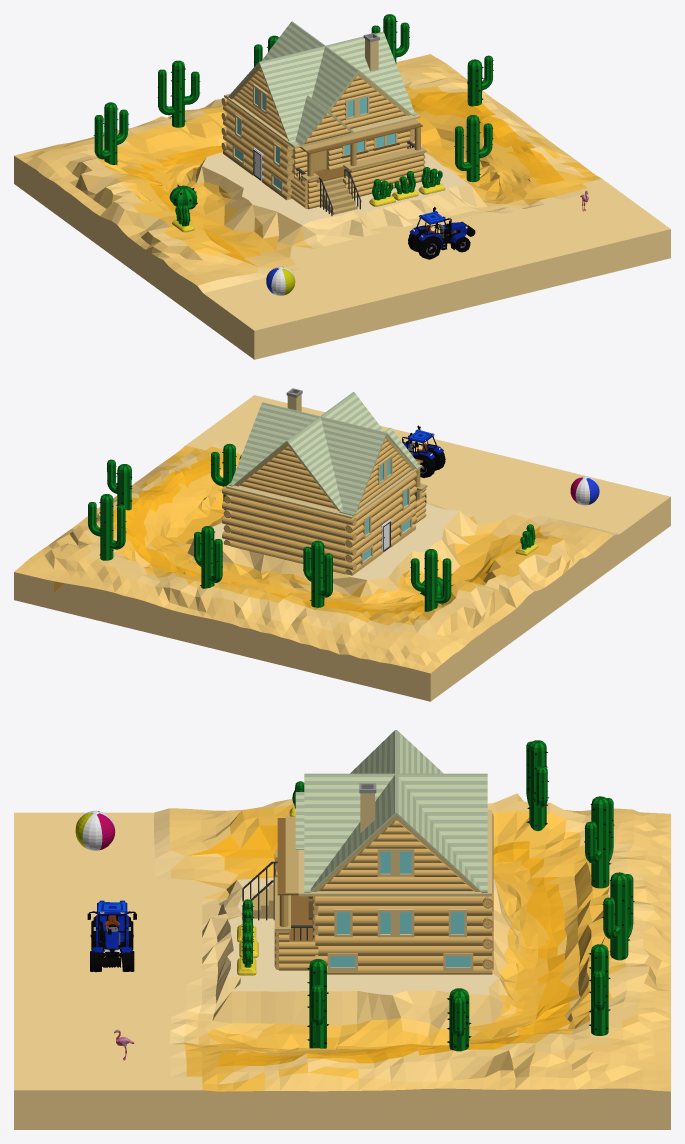
3 views of the same model, one above another, from view 1: azimuth 30°, elevation 25°; view 2: azimuth 150°, elevation 25°; view 3: azimuth 270°, elevation 25° (orthographic). The views are drawn at different scales.
Parts seen in each view (by area): view 1: Cube.001, Cube.1516, VEHICLES_TRACTOR, Cylinder.037, Cylinder.044, Cylinder.045, Cylinder.038, Cylinder.042, OBJRANDOM_BEACHBALL, Cylinder.039, Cylinder.041, Sphere.023 (+1 smaller); view 2: Cube.001, Cube.1516, Cylinder.042, Cylinder.045, Cylinder.044, Cylinder.043, VEHICLES_TRACTOR, Cylinder.038, Cylinder.037, OBJRANDOM_BEACHBALL; view 3: Cube.001, Cube.1516, VEHICLES_TRACTOR, Cylinder.043, Cylinder.044, Cylinder.045, Cylinder.042, Cylinder.037, Cylinder.038, OBJRANDOM_BEACHBALL, Cylinder.041.
Boxes of the visible parts, x1=… form: Cube.001: x1=14, y1=54, x2=670, y2=359; Cube.1516: x1=221, y1=21, x2=426, y2=215; VEHICLES_TRACTOR: x1=408, y1=207, x2=475, y2=259; Cylinder.037: x1=454, y1=115, x2=493, y2=182; Cylinder.044: x1=157, y1=60, x2=200, y2=127; Cylinder.045: x1=93, y1=102, x2=129, y2=164; Cylinder.038: x1=467, y1=55, x2=493, y2=106; Cylinder.042: x1=371, y1=14, x2=409, y2=63; OBJRANDOM_BEACHBALL: x1=266, y1=266, x2=295, y2=295; Cylinder.039: x1=369, y1=179, x2=395, y2=206; Cylinder.041: x1=418, y1=167, x2=445, y2=194; Sphere.023: x1=169, y1=184, x2=197, y2=209; Cube.001: x1=14, y1=395, x2=670, y2=701; Cube.1516: x1=222, y1=388, x2=427, y2=575; Cylinder.042: x1=88, y1=494, x2=126, y2=560; Cylinder.045: x1=410, y1=549, x2=452, y2=611; Cylinder.044: x1=303, y1=540, x2=333, y2=607; Cylinder.043: x1=193, y1=526, x2=222, y2=588; VEHICLES_TRACTOR: x1=402, y1=425, x2=445, y2=477; Cylinder.038: x1=107, y1=459, x2=131, y2=510; Cylinder.037: x1=210, y1=443, x2=241, y2=510; OBJRANDOM_BEACHBALL: x1=570, y1=476, x2=599, y2=505; Cube.001: x1=14, y1=793, x2=670, y2=1129; Cube.1516: x1=242, y1=730, x2=493, y2=974; VEHICLES_TRACTOR: x1=87, y1=900, x2=136, y2=972; Cylinder.043: x1=602, y1=872, x2=634, y2=960; Cylinder.044: x1=584, y1=796, x2=614, y2=888; Cylinder.045: x1=526, y1=740, x2=548, y2=831; Cylinder.042: x1=588, y1=944, x2=610, y2=1035; Cylinder.037: x1=307, y1=959, x2=328, y2=1048; Cylinder.038: x1=447, y1=988, x2=471, y2=1051; OBJRANDOM_BEACHBALL: x1=75, y1=810, x2=115, y2=850; Cylinder.041: x1=237, y1=932, x2=256, y2=975.
Size of the model in its own units: 4002 by 1635 by 4001.
Materials: 34 (3 with a texture image).
